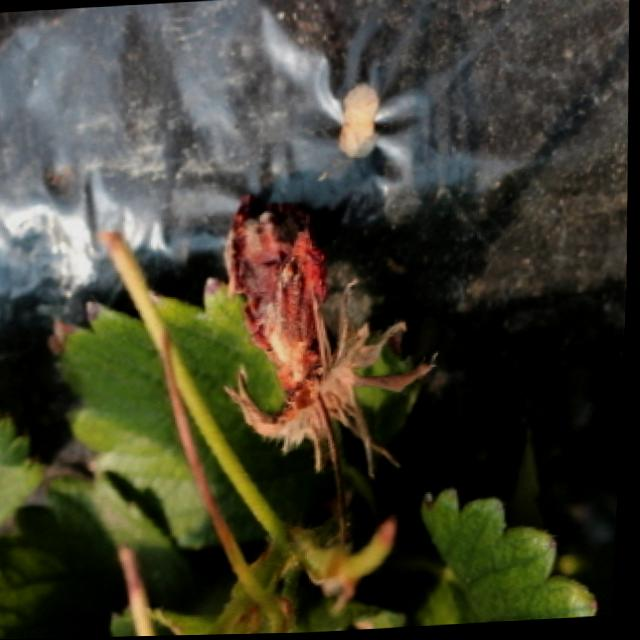Gray Mold: (222, 194, 438, 480)
